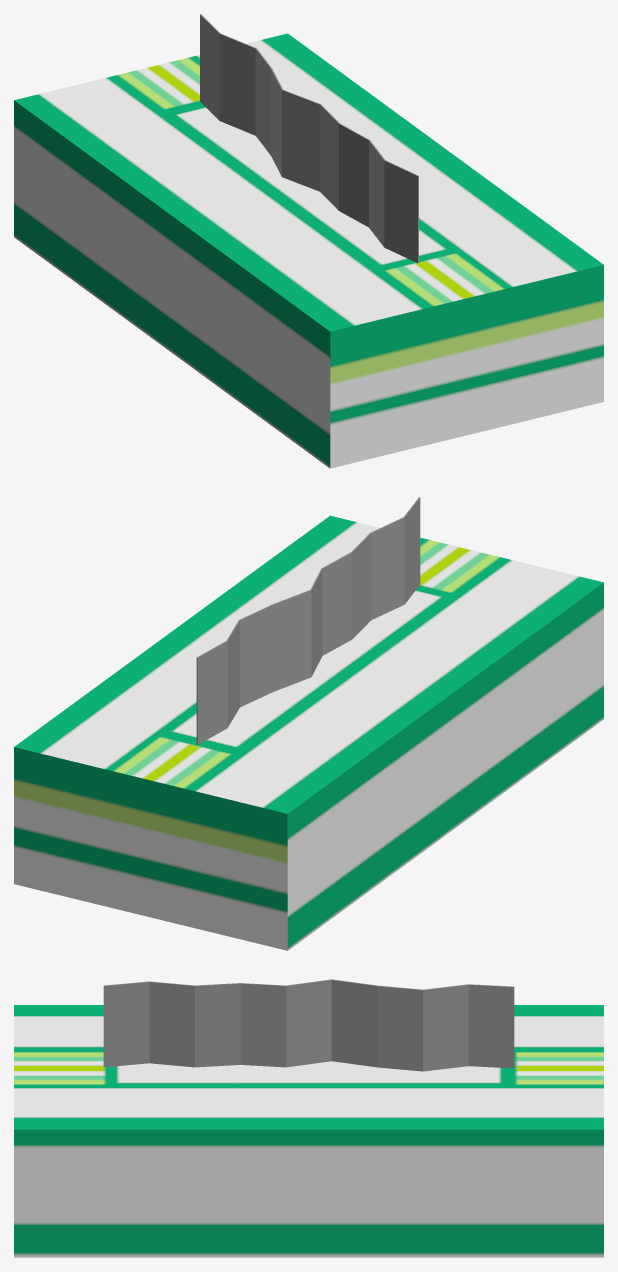
The model's file is facial-tissue.obj.
3 views of the same model, one above another, from view 1: azimuth 30°, elevation 25°; view 2: azimuth 150°, elevation 25°; view 3: azimuth 270°, elevation 25° (orthographic). The views are drawn at different scales.
Visible parts, largest first — view 1: Box_立方体, グリッド; view 2: Box_立方体, グリッド; view 3: Box_立方体, グリッド.
Part boxes in pixels (x1=…): Box_立方体: x1=14, y1=33, x2=603, y2=468; グリッド: x1=200, y1=14, x2=418, y2=263; Box_立方体: x1=14, y1=515, x2=603, y2=950; グリッド: x1=196, y1=497, x2=420, y2=744; Box_立方体: x1=14, y1=1005, x2=603, y2=1257; グリッド: x1=103, y1=979, x2=514, y2=1071.
Size of the model in its own units: 0.115 by 0.09 by 0.23.
